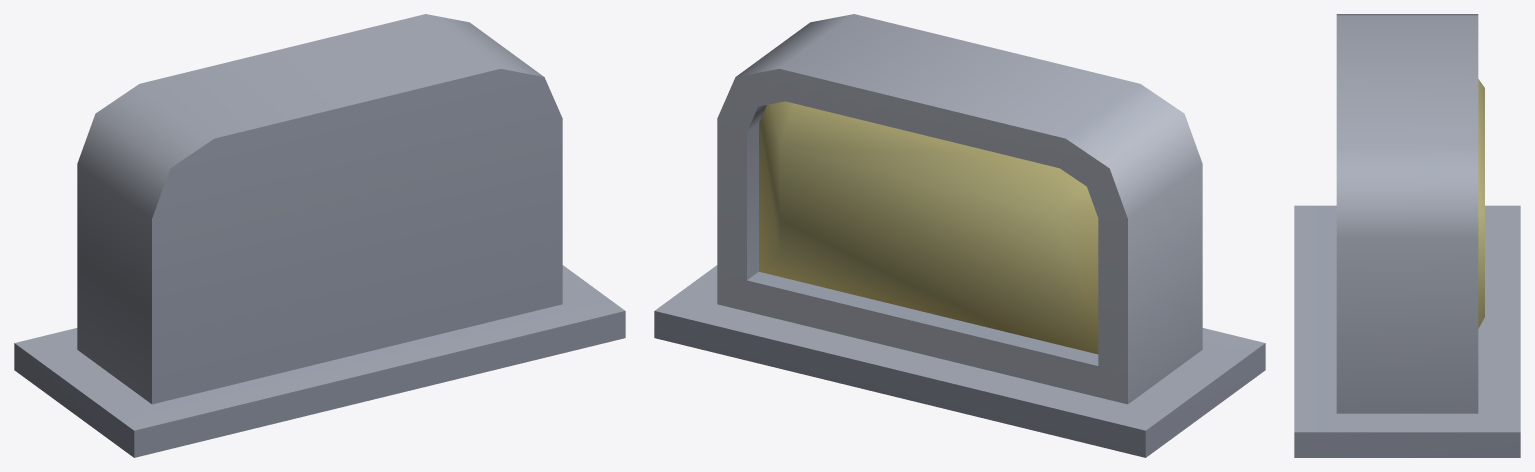
The model's file is squidgame_light_light4.fbx.
3 renders of one model, left to right at view 1: azimuth 30°, elevation 25°; view 2: azimuth 150°, elevation 25°; view 3: azimuth 270°, elevation 25°, orthographic. The views are drawn at different scales.
Parts seen in each view (by area): view 1: squidgame_light_light4; view 2: squidgame_light_light4, squidgame_light_light4_light; view 3: squidgame_light_light4, squidgame_light_light4_light.
Boxes of the visible parts, x1,y1,x2,y2 form: squidgame_light_light4: (14, 14, 625, 457); squidgame_light_light4: (654, 14, 1265, 457); squidgame_light_light4_light: (759, 101, 1098, 354); squidgame_light_light4: (1294, 14, 1520, 457); squidgame_light_light4_light: (1478, 79, 1484, 328).
Size of the model in its own units: 0.3175 by 0.1716 by 0.134.
